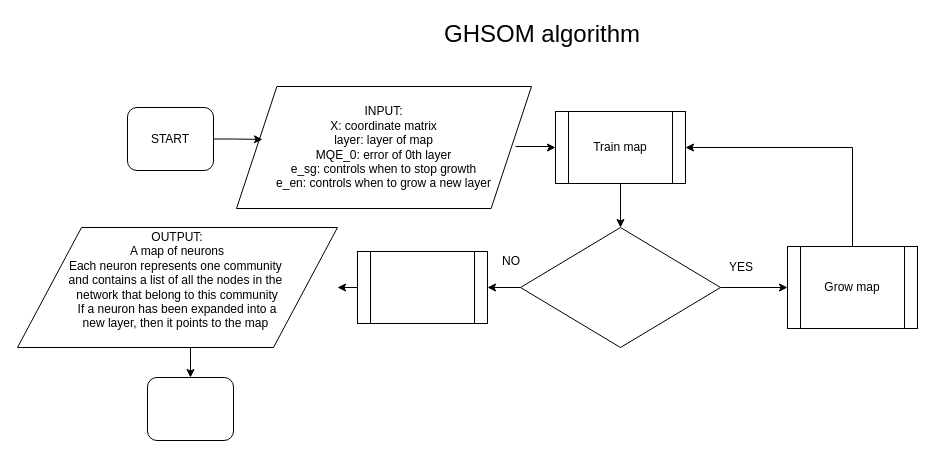
This 935x458 diagram has some shape labels left out. The box of each missing label's shape, as (x1, y1, x2, y2) in pixels:
Expand Map: (356, 250, 488, 324)
Is MQE_l > e_sg * MQE_0?: (520, 226, 720, 348)
STOP: (146, 376, 234, 440)
